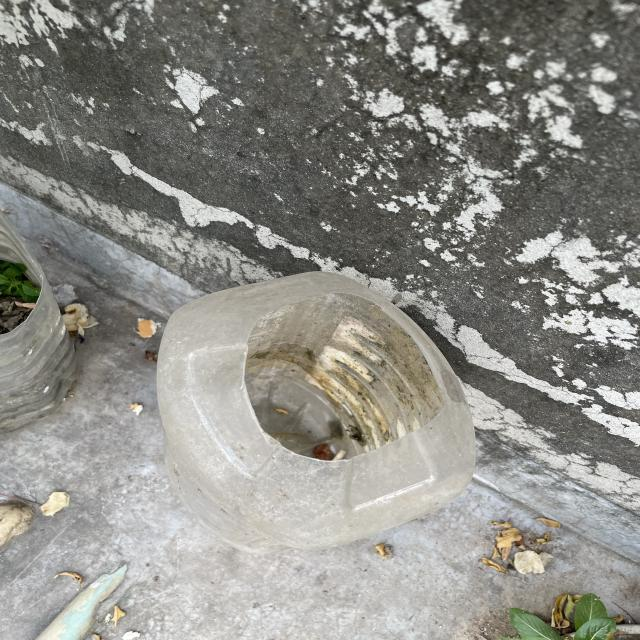Breeding Place: (161, 272, 476, 544)
